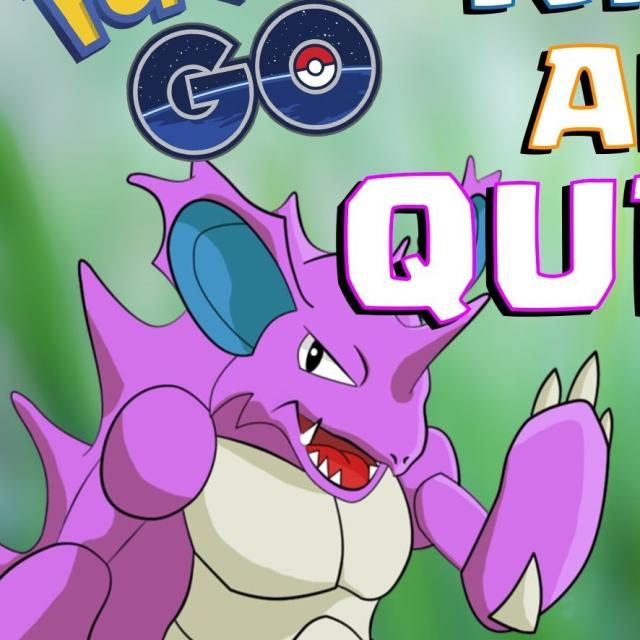Nidoking: (6, 162, 608, 640)
